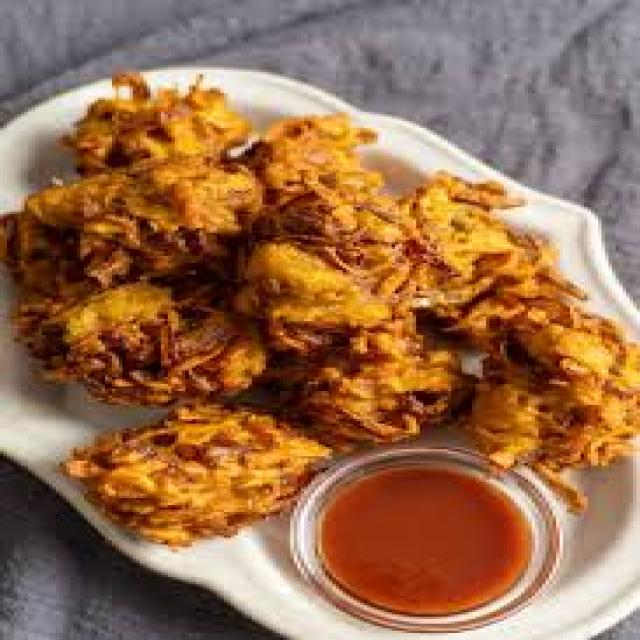BAJI: (0, 74, 637, 542)
